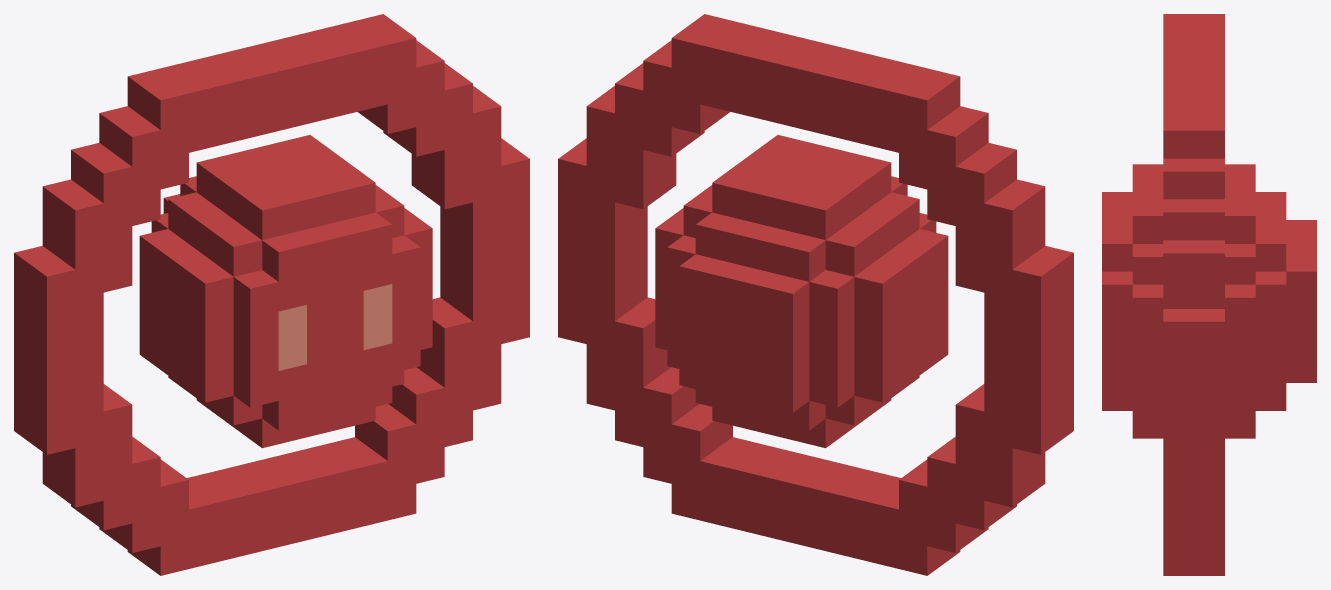
The model's file is data_red.fbx.
The picture shows the model from 3 angles, left to right: view 1: azimuth 30°, elevation 25°; view 2: azimuth 150°, elevation 25°; view 3: azimuth 270°, elevation 25°; orthographic projection. The views are drawn at different scales.
Visible parts, largest first — view 1: data_red; view 2: data_red; view 3: data_red.
Part boxes in pixels (x1,y1,x2,y2): data_red: (14,14,529,575); data_red: (558,14,1073,575); data_red: (1102,14,1316,575).
Bounding box in the file's own units: 1.7 × 1.6 × 0.7.
1 material, 1 textured.
